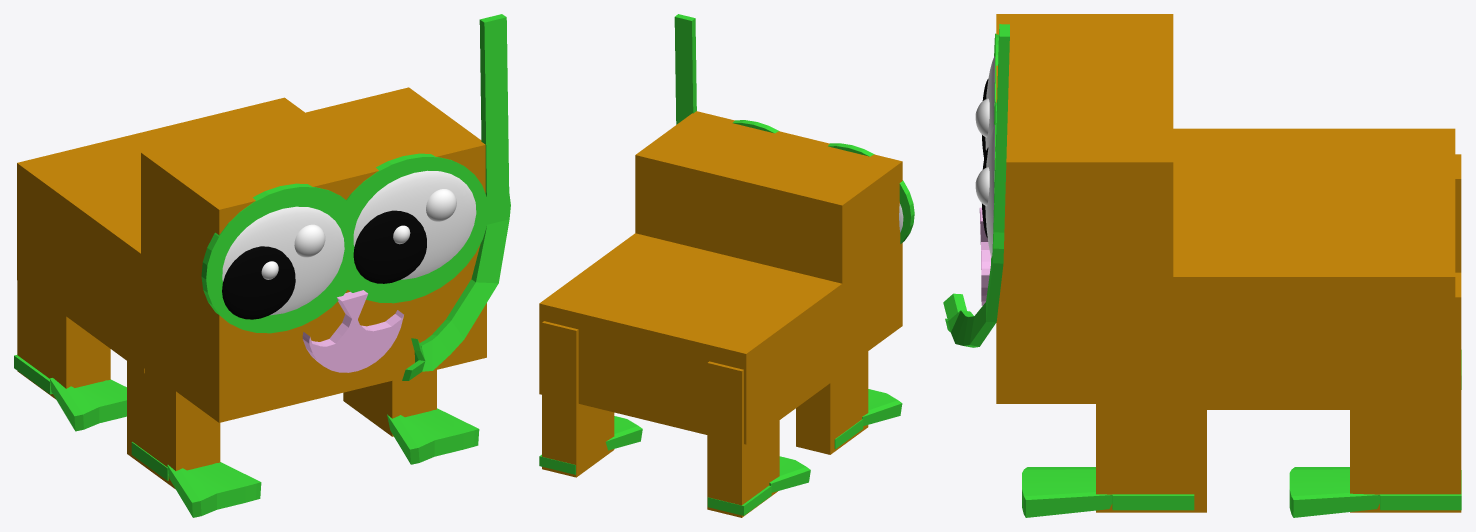
The model's file is Beachwognoanimations.fbx.
3 renders of one model, left to right at view 1: azimuth 30°, elevation 25°; view 2: azimuth 150°, elevation 25°; view 3: azimuth 270°, elevation 25°, orthographic. The views are drawn at different scales.
Parts seen in each view (by area): view 1: Cube.001, Cylinder, Cube__1_, Cube__2_, Cube__5_, Sphere, Sphere_1, Cube_2, Sphere__4__1, Sphere__4_, Cube__3_, Sphere__5__1 (+1 smaller); view 2: Cube__1_, Cube.001, Cylinder, Cube__5_, Cube__4_, Cube__2_; view 3: Cube__1_, Cube.001, Cylinder, Cube__4_, Cube__3_, Sphere, Cube__5_, Cube_2.
Part boxes in pixels (x1=…): Cube.001: x1=141, y1=87, x2=486, y2=422; Cylinder: x1=14, y1=14, x2=510, y2=517; Cube__1_: x1=17, y1=97, x2=304, y2=373; Cube__2_: x1=127, y1=361, x2=220, y2=489; Cube__5_: x1=17, y1=281, x2=110, y2=399; Sphere: x1=353, y1=170, x2=476, y2=279; Sphere_1: x1=222, y1=206, x2=344, y2=315; Cube_2: x1=302, y1=290, x2=403, y2=372; Sphere__4__1: x1=222, y1=246, x2=295, y2=319; Sphere__4_: x1=353, y1=210, x2=426, y2=283; Cube__3_: x1=343, y1=370, x2=436, y2=436; Sphere__5__1: x1=294, y1=224, x2=325, y2=257; Cube__1_: x1=539, y1=233, x2=844, y2=444; Cube.001: x1=635, y1=111, x2=902, y2=369; Cylinder: x1=539, y1=14, x2=914, y2=515; Cube__5_: x1=707, y1=361, x2=779, y2=517; Cube__4_: x1=542, y1=321, x2=614, y2=477; Cube__2_: x1=796, y1=351, x2=868, y2=454; Cube__1_: x1=1166, y1=128, x2=1455, y2=409; Cube.001: x1=996, y1=14, x2=1173, y2=403; Cylinder: x1=943, y1=24, x2=1461, y2=517; Cube__4_: x1=1350, y1=272, x2=1461, y2=512; Cube__3_: x1=1096, y1=404, x2=1206, y2=512; Sphere: x1=985, y1=124, x2=994, y2=258; Cube__5_: x1=1455, y1=154, x2=1461, y2=272; Cube_2: x1=979, y1=207, x2=990, y2=305.
Size of the model in its own units: 114 by 156 by 148.
